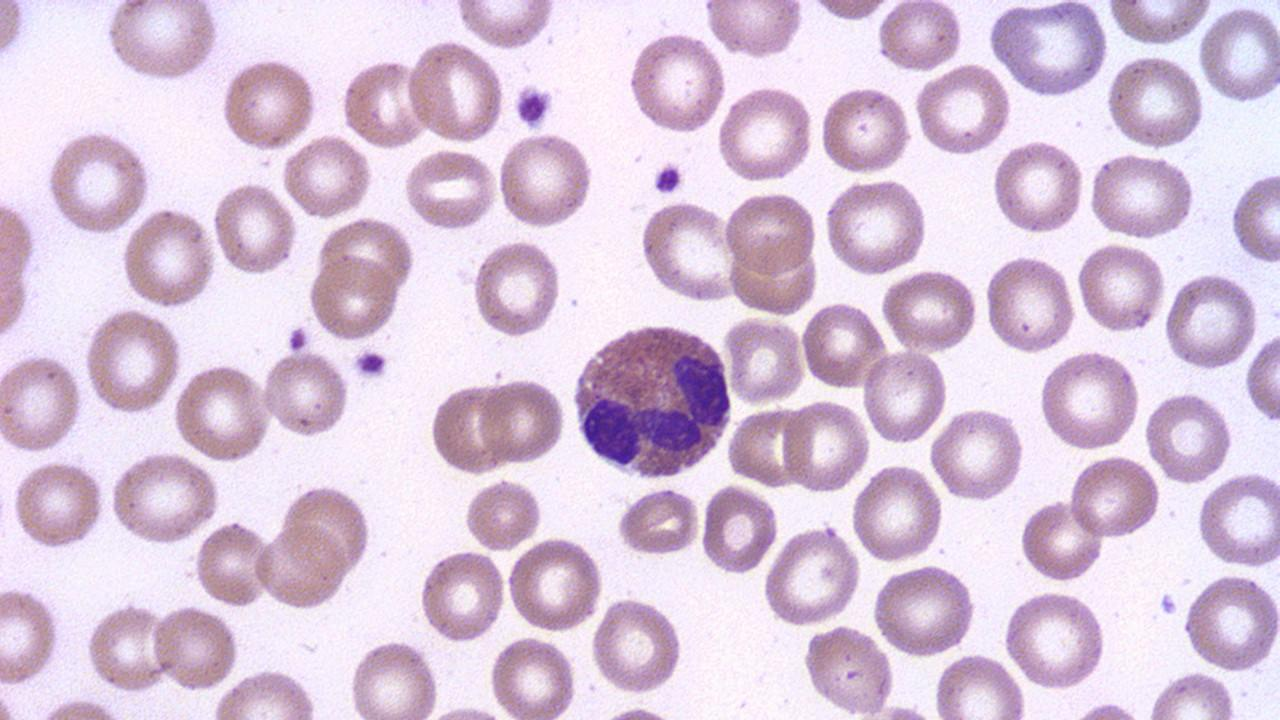Platelets: (512, 81, 556, 131), (352, 346, 391, 380), (651, 160, 686, 197), (286, 322, 310, 354)
RBC: (0, 0, 449, 298), (986, 1, 1112, 99), (45, 127, 152, 236), (637, 198, 744, 304), (82, 306, 184, 417), (1002, 588, 1110, 690), (403, 38, 506, 144), (1037, 348, 1141, 452), (822, 176, 928, 278), (870, 560, 980, 658), (171, 360, 275, 463), (626, 29, 726, 136), (107, 451, 220, 544), (1180, 570, 1280, 675), (761, 524, 861, 628), (1104, 51, 1206, 151), (496, 129, 596, 231), (218, 54, 318, 155), (1162, 270, 1260, 373), (119, 206, 216, 310), (505, 535, 605, 635), (716, 83, 814, 185), (850, 460, 946, 564), (982, 252, 1078, 356), (1086, 151, 1196, 240), (927, 405, 1026, 503), (590, 594, 684, 697), (104, 2, 221, 84), (990, 139, 1086, 237), (912, 62, 1012, 156), (471, 237, 562, 340), (800, 622, 897, 717), (9, 458, 107, 552), (1194, 466, 1280, 572), (0, 350, 84, 458), (817, 83, 913, 177), (210, 178, 298, 280), (1075, 239, 1167, 336), (782, 396, 872, 495), (860, 345, 948, 446), (416, 547, 507, 644), (879, 268, 980, 354), (400, 146, 501, 232), (282, 482, 374, 576), (84, 600, 176, 694), (1142, 389, 1234, 483), (254, 521, 349, 611), (306, 254, 402, 343), (341, 54, 429, 151), (1067, 452, 1163, 540), (1198, 4, 1280, 107), (259, 348, 350, 440), (152, 601, 241, 694), (478, 373, 566, 467), (723, 189, 818, 276), (316, 214, 415, 295), (1016, 496, 1105, 586), (722, 313, 806, 407), (280, 134, 373, 218), (430, 380, 512, 475), (800, 300, 886, 390), (348, 636, 442, 718), (487, 634, 579, 717), (700, 481, 779, 577), (193, 520, 274, 608), (726, 404, 808, 490), (616, 484, 702, 560), (0, 584, 62, 688), (462, 475, 543, 553), (932, 652, 1029, 716), (876, 1, 962, 72), (703, 2, 806, 60), (209, 666, 320, 717), (451, 2, 559, 52), (1228, 169, 1280, 264), (1106, 2, 1214, 47), (1144, 668, 1240, 718), (1, 183, 38, 302), (1243, 327, 1279, 424), (0, 258, 33, 348), (802, 0, 896, 24), (0, 0, 27, 77)
WBC: (566, 315, 738, 482)
